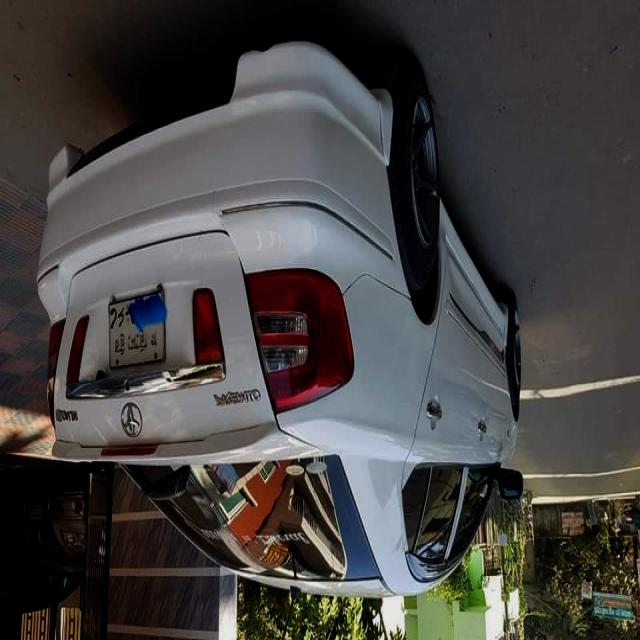white: (31, 81, 523, 594)
